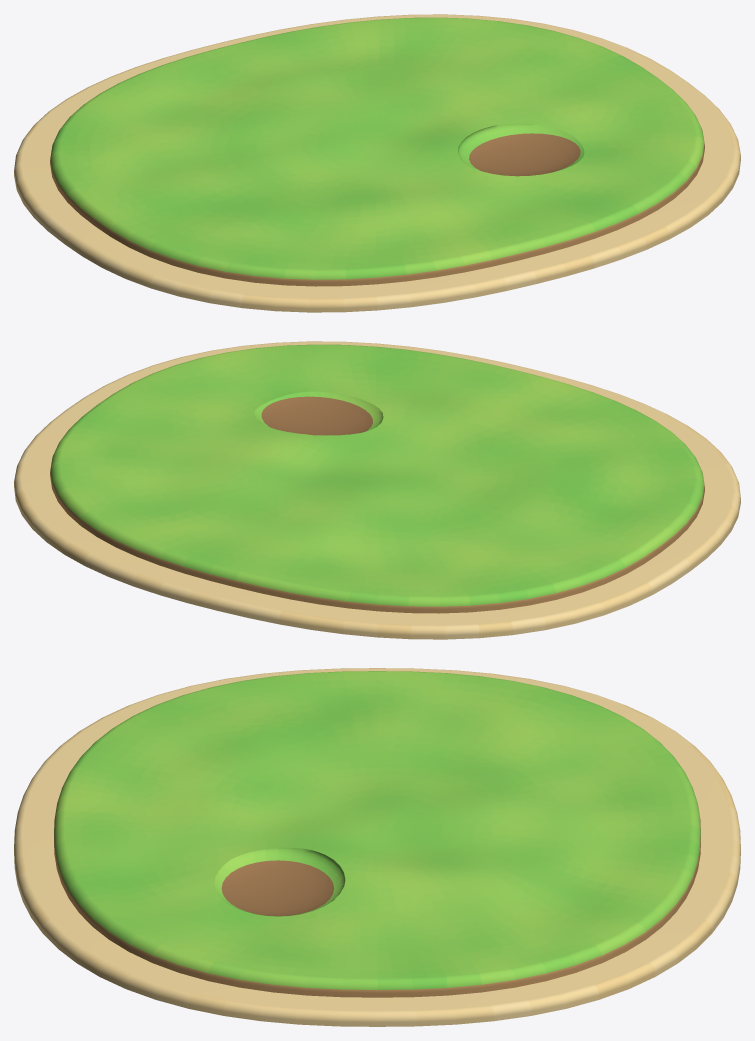
File: island.glb
3 renders of one model, top to bottom at view 1: azimuth 30°, elevation 25°; view 2: azimuth 150°, elevation 25°; view 3: azimuth 270°, elevation 25°, orthographic. The views are drawn at different scales.
Parts seen in each view (by area): view 1: land, beach; view 2: land, beach; view 3: land, beach.
Part boxes in pixels (box(x1,y1,x2,y2)): land: box(50, 17, 704, 286); beach: box(14, 14, 740, 312); land: box(50, 344, 704, 613); beach: box(14, 341, 740, 639); land: box(54, 671, 700, 997); beach: box(14, 668, 740, 1026).
Bounding box in the file's own units: 33.2 × 1.44 × 29.2.
